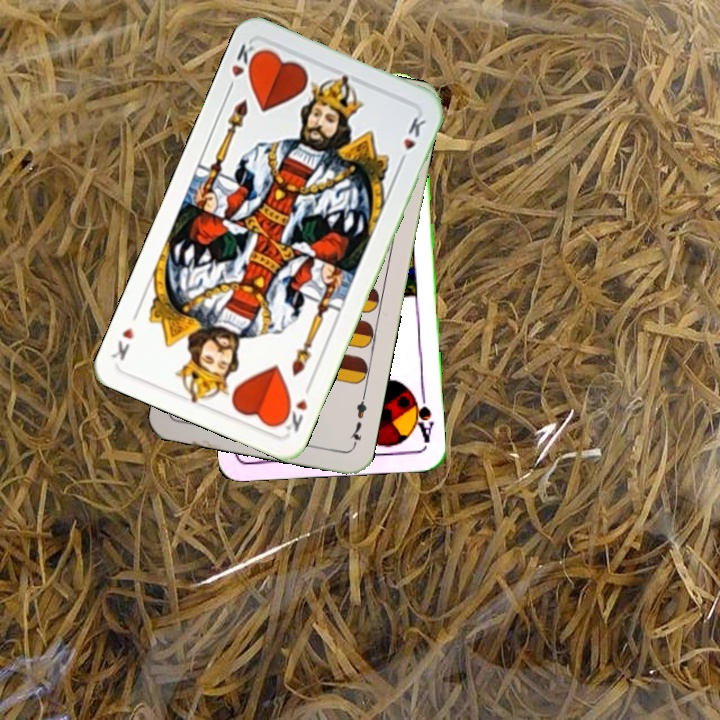E7: (346, 390, 369, 449)
HK: (223, 39, 263, 95), (276, 379, 315, 435)
SA: (407, 386, 436, 446)
